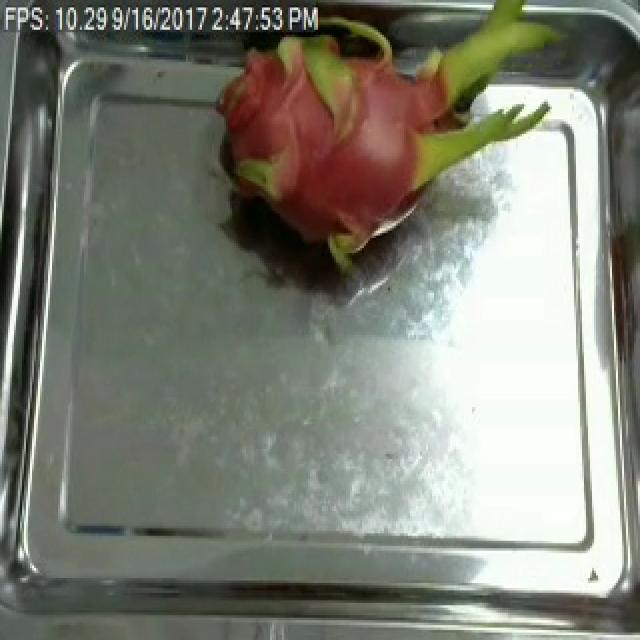fruit: (192, 2, 570, 302)
